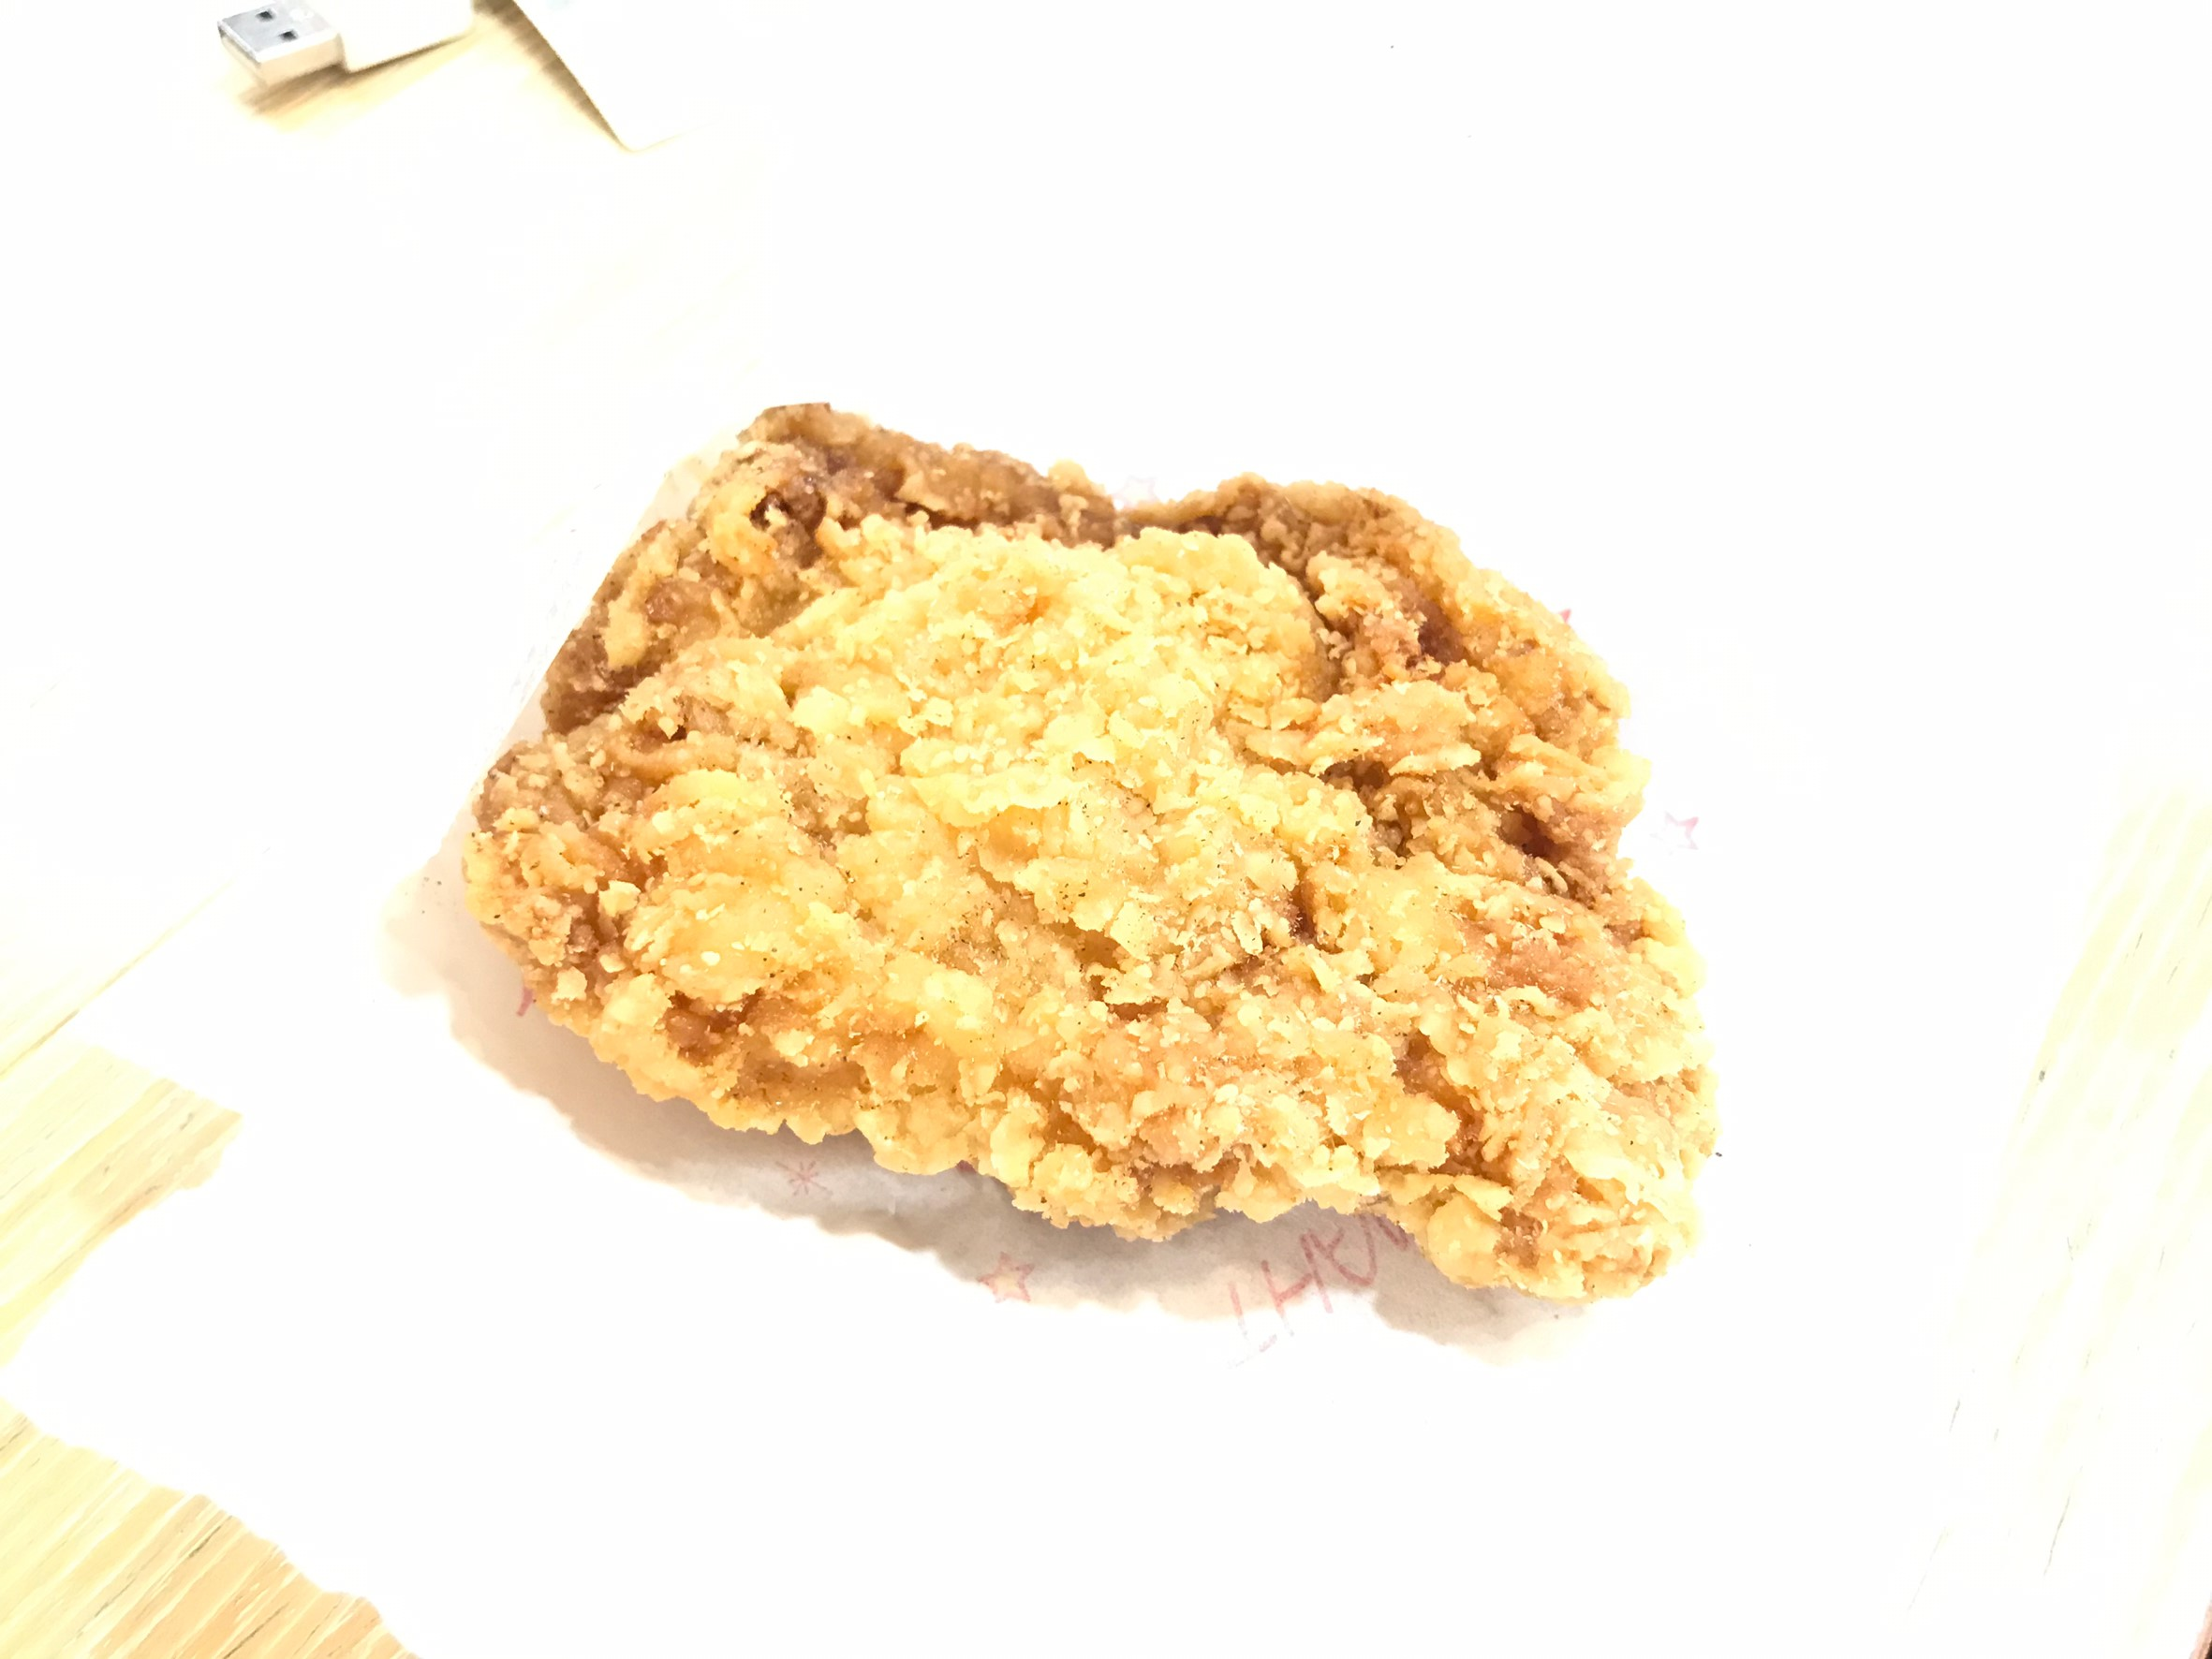fried_chicken: (453, 394, 1719, 1317)
